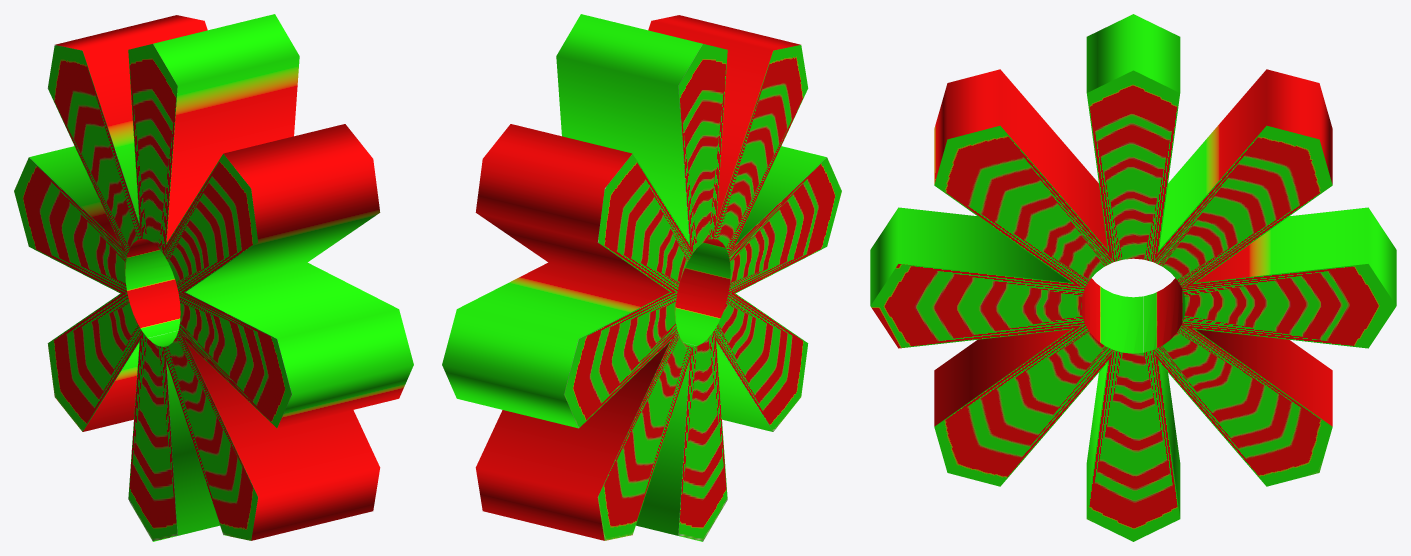
File: UV_gear4.fbx
The picture shows the model from 3 angles, left to right: view 1: azimuth 30°, elevation 25°; view 2: azimuth 150°, elevation 25°; view 3: azimuth 270°, elevation 25°; orthographic projection. The views are drawn at different scales.
Visible parts, largest first — view 1: gear4; view 2: gear4; view 3: gear4.
Boxes of the visible parts, x1,y1,x2,y2 form: gear4: (14,14,413,541); gear4: (442,14,841,541); gear4: (870,14,1396,541).
Size of the model in its own units: 2 by 7.8 by 7.89.
1 material, 1 textured.
